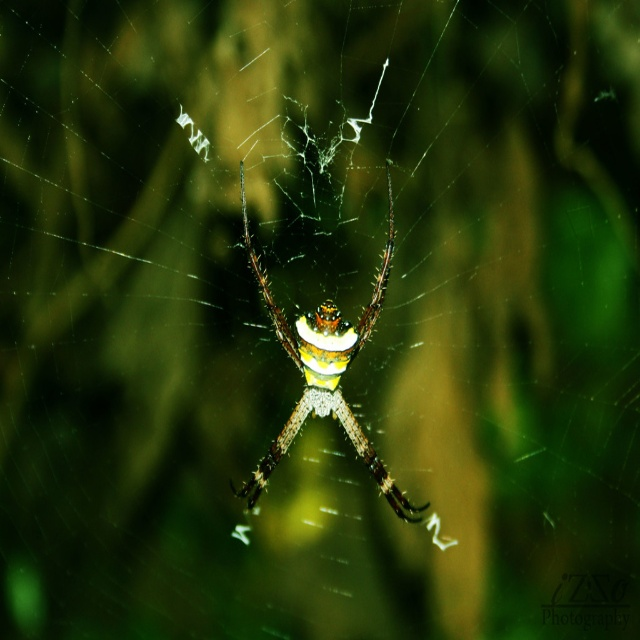Spider: (229, 160, 431, 523)
